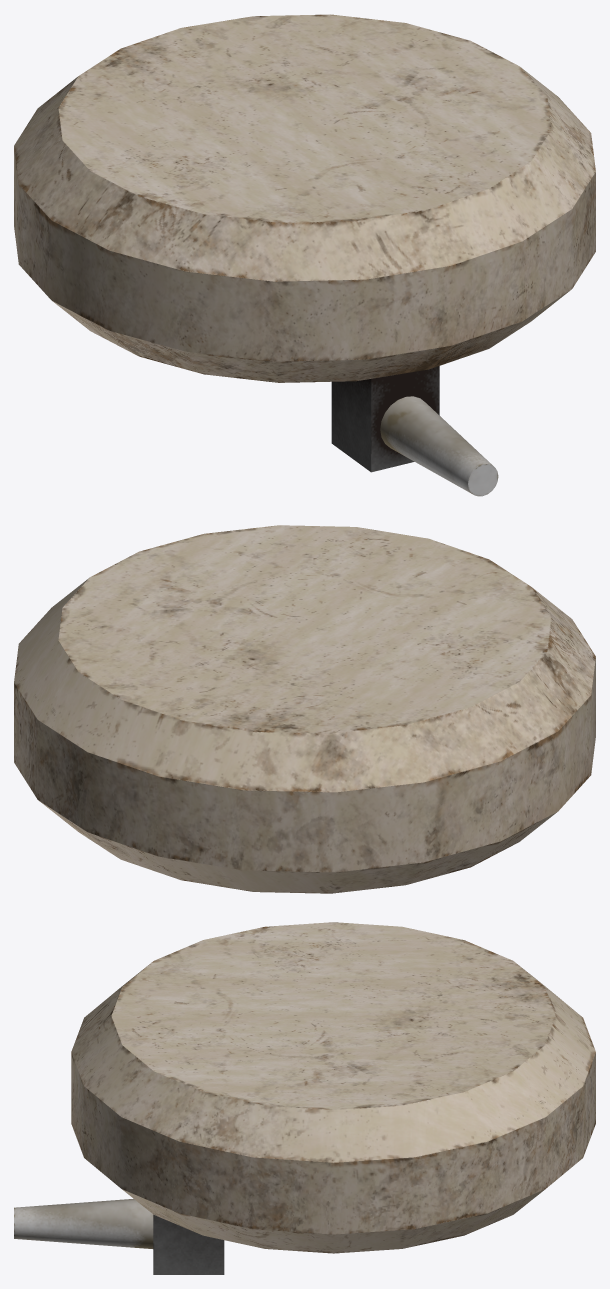
The model's file is Enemy02 UV 1.fbx.
3 views of the same model, one above another, from view 1: azimuth 30°, elevation 25°; view 2: azimuth 150°, elevation 25°; view 3: azimuth 270°, elevation 25° (orthographic). The views are drawn at different scales.
Parts seen in each view (by area): view 1: body, hand, gun; view 2: body; view 3: body, gun, hand.
Boxes of the visible parts, x1,y1,x2,y2 form: body: (14,14,595,382); hand: (331,366,439,472); gun: (380,396,498,496); body: (14,525,595,893); body: (71,922,595,1253); gun: (14,1199,153,1248); hand: (153,1215,224,1274).
Size of the model in its own units: 7.39 by 3.79 by 8.19.
Materials: 1 (1 with a texture image).
